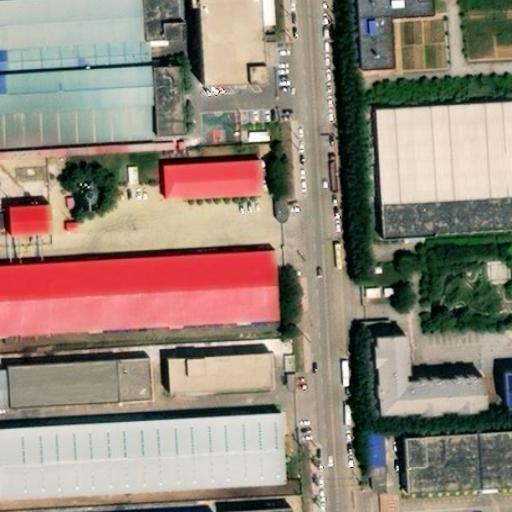building: (0, 420, 273, 509), (0, 272, 283, 356), (379, 121, 512, 226), (372, 354, 479, 431), (11, 381, 155, 431), (407, 453, 512, 512), (358, 0, 436, 79), (383, 220, 512, 259), (167, 179, 268, 223), (173, 376, 277, 416), (153, 90, 189, 161), (6, 209, 51, 247), (497, 364, 512, 406), (479, 256, 505, 280), (77, 182, 97, 208), (335, 353, 350, 384), (269, 191, 286, 218), (243, 124, 268, 141), (59, 214, 80, 231), (358, 280, 380, 296), (279, 367, 294, 388), (279, 348, 294, 369)
